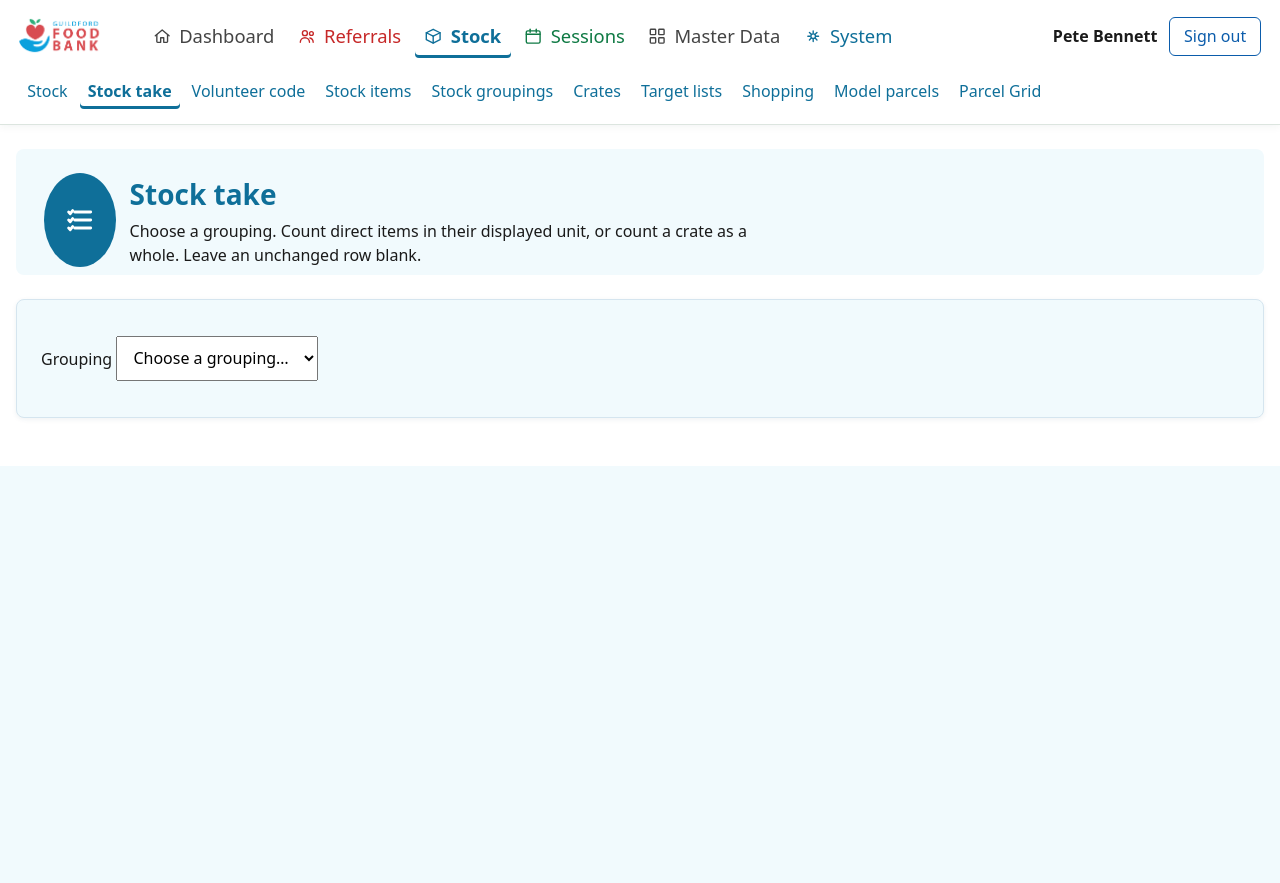
it: saving a stock take page › automatically saves a changed page before moving to the next one
The width and height of the screenshot is (1280, 883).
Step 1. Select "Non-perishable" in the dropdown labelled "Grouping" → (217, 358), box [116,336,318,381]
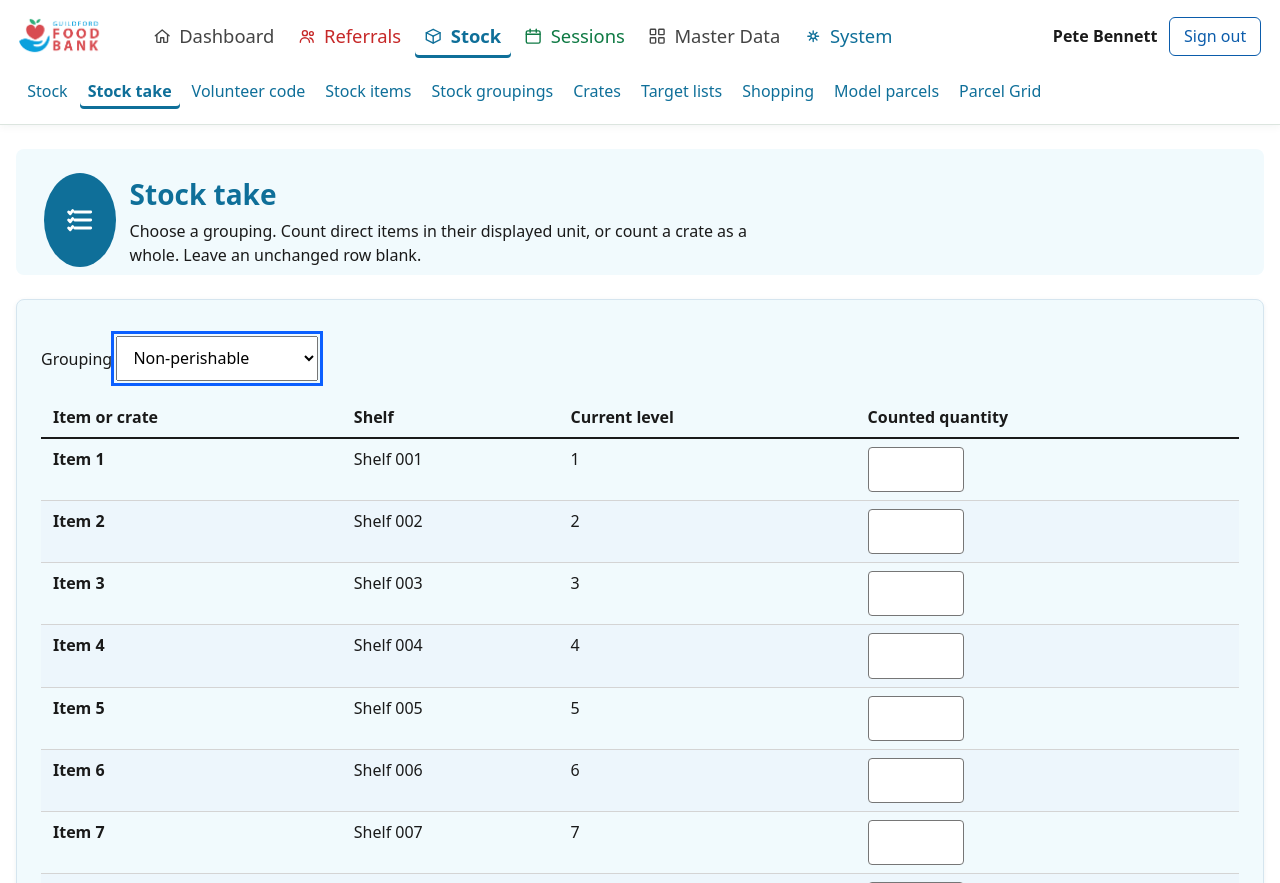
expect the number of rows is 41: met
Step 2. Type "99" into the field named "Counted Item 1 individually" in the row of "Shelf 001" → (916, 469), box [868,447,964,492]
(page scrolled)
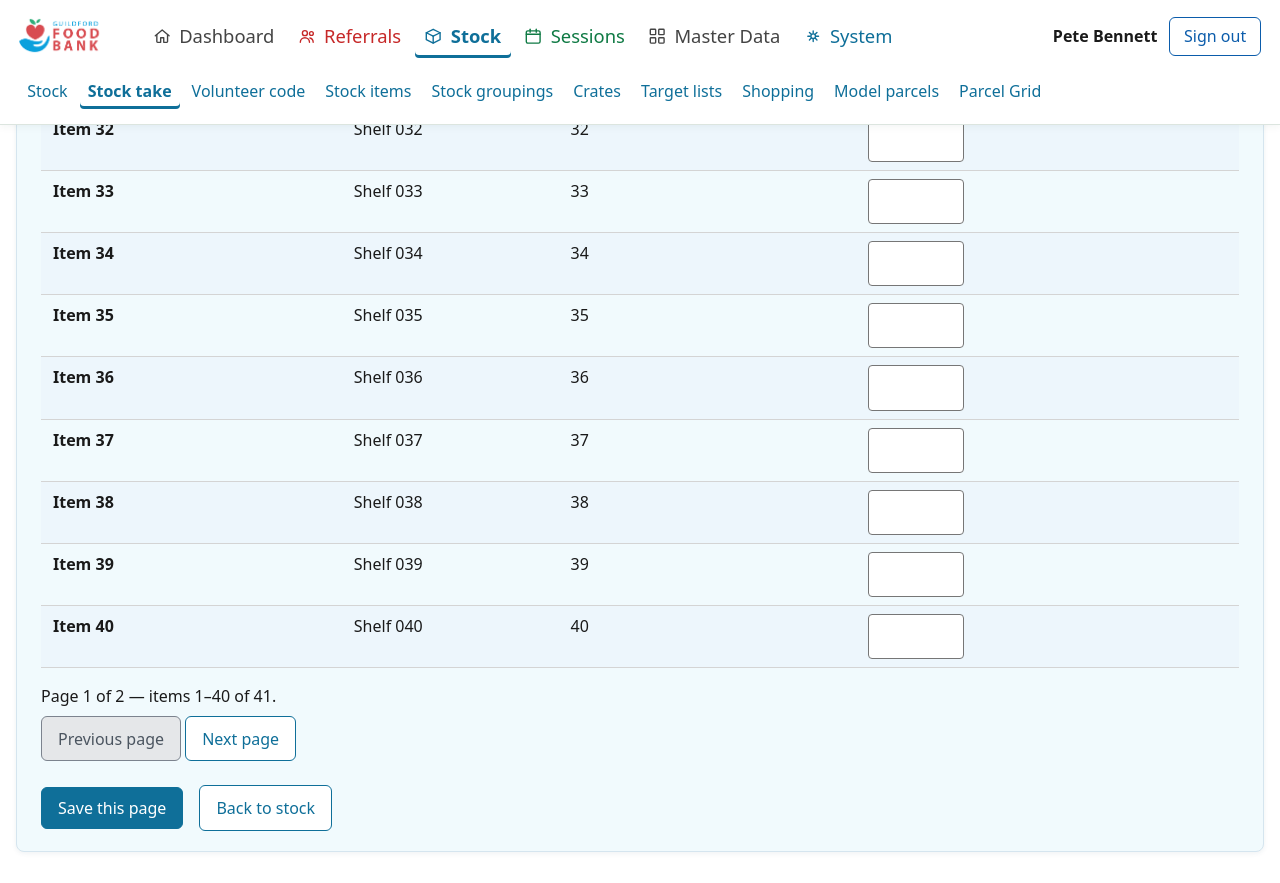
expect the field labelled "Counted Item 41 individually" is not shown: met
Step 3. Click the button "Next page" → (241, 739), box [185,716,296,762]
(page scrolled)
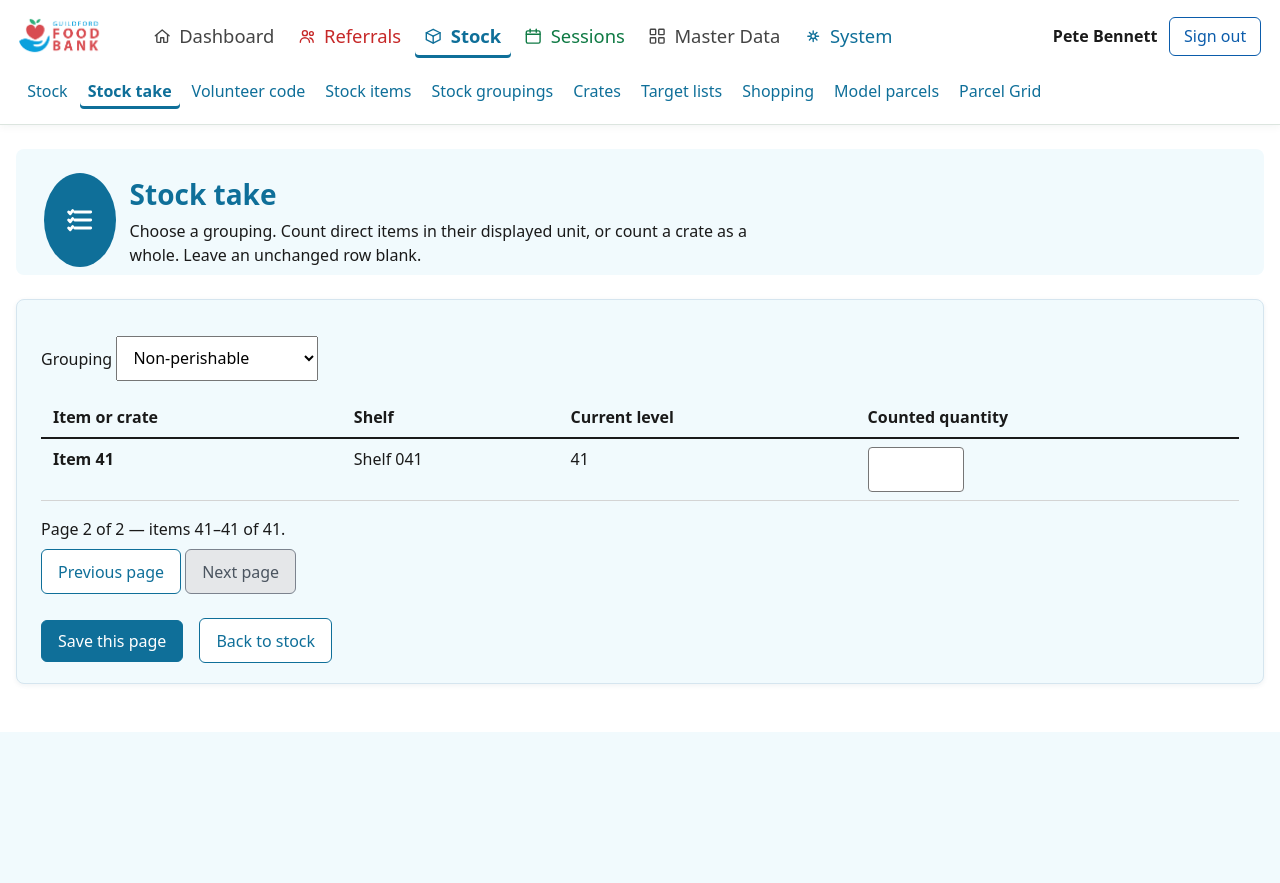
expect the text "Page 2 of 2 — items 41–41 of 41." is shown: met, box [41,518,285,540]
expect the number of rows is 2: met, box [41,397,1239,438]; [41,438,1239,500]
Step 4. Type "99" into the field named "Counted Item 41 individually" → (916, 469), box [868,447,964,492]
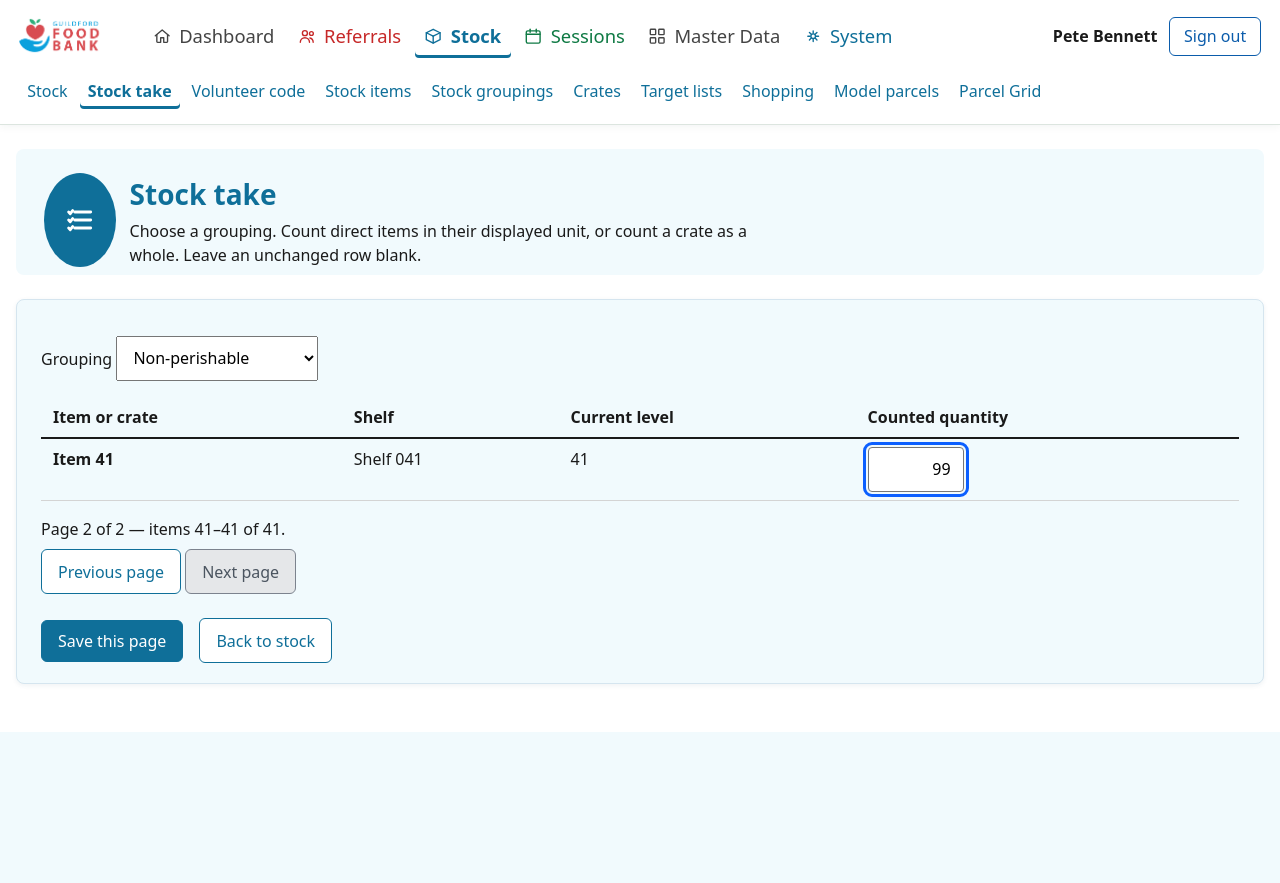
Step 5. Click the button "Save this page" → (112, 641), box [41,620,183,662]
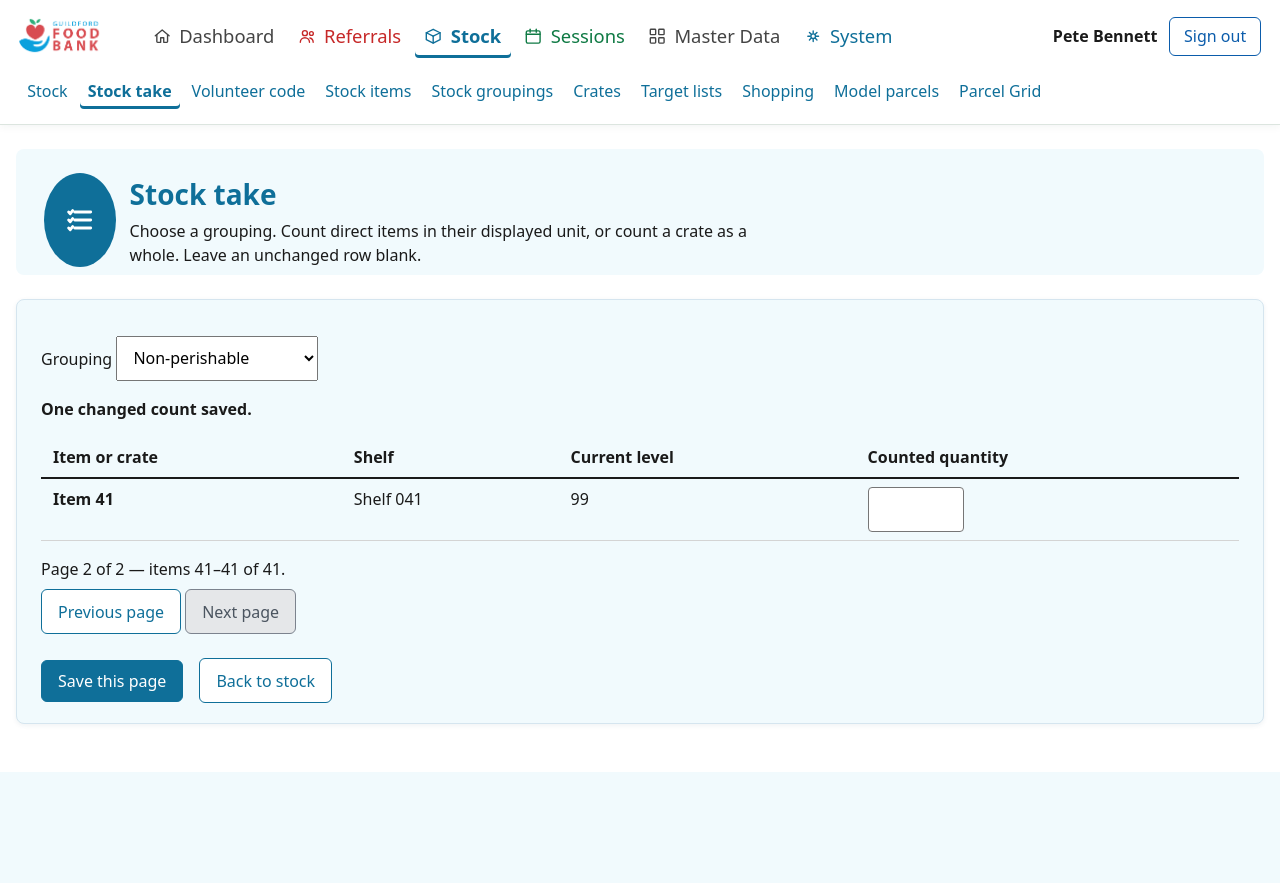
expect the text "One changed count saved." is shown: met, box [41,398,252,420]
